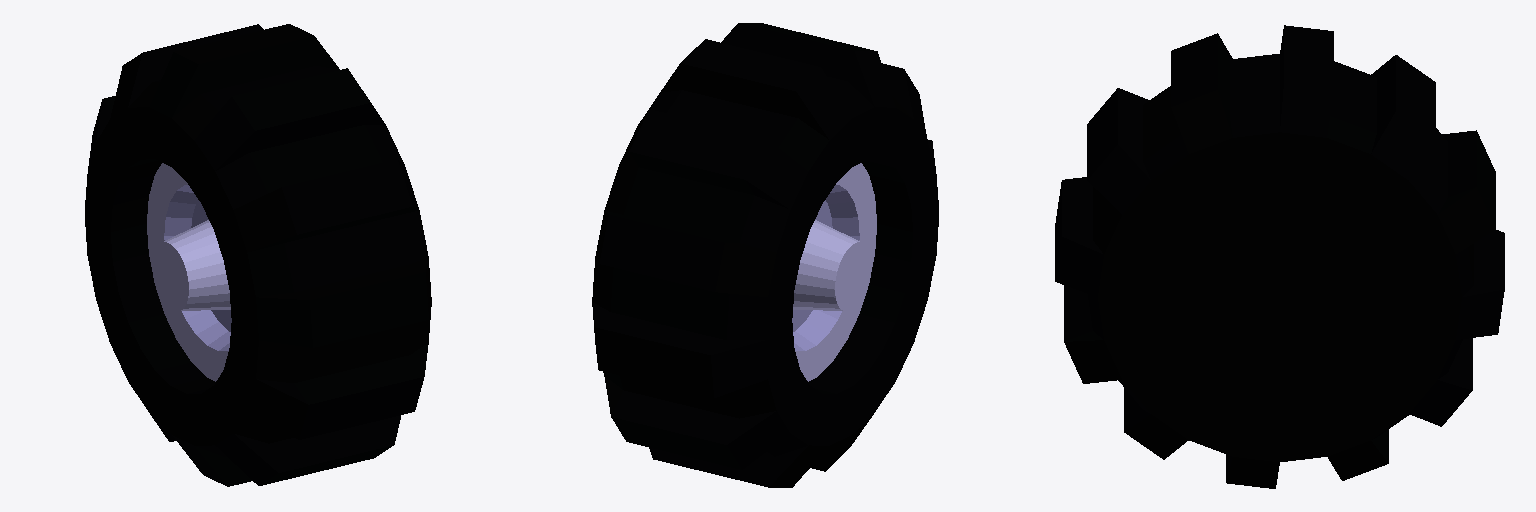
Rendered from tire1.obj.
The picture shows the model from 3 angles: view 1: azimuth 30°, elevation 25°; view 2: azimuth 150°, elevation 25°; view 3: azimuth 270°, elevation 25°; orthographic projection.
Parts seen in each view (by area): view 1: mergedBlocks; view 2: mergedBlocks; view 3: mergedBlocks.
Part boxes in pixels (x1,y1,x2,y2): mergedBlocks: (85, 24, 431, 486); mergedBlocks: (592, 23, 938, 487); mergedBlocks: (1055, 25, 1504, 488).
Size of the model in its own units: 0.0934 by 0.2146 by 0.2146.